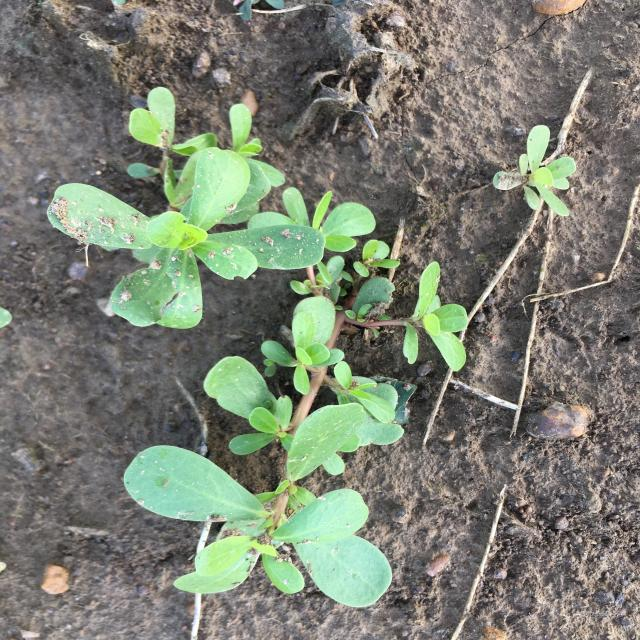Purslane: (47, 86, 468, 607), (493, 126, 576, 217)
